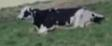cow: (17, 6, 104, 33)
